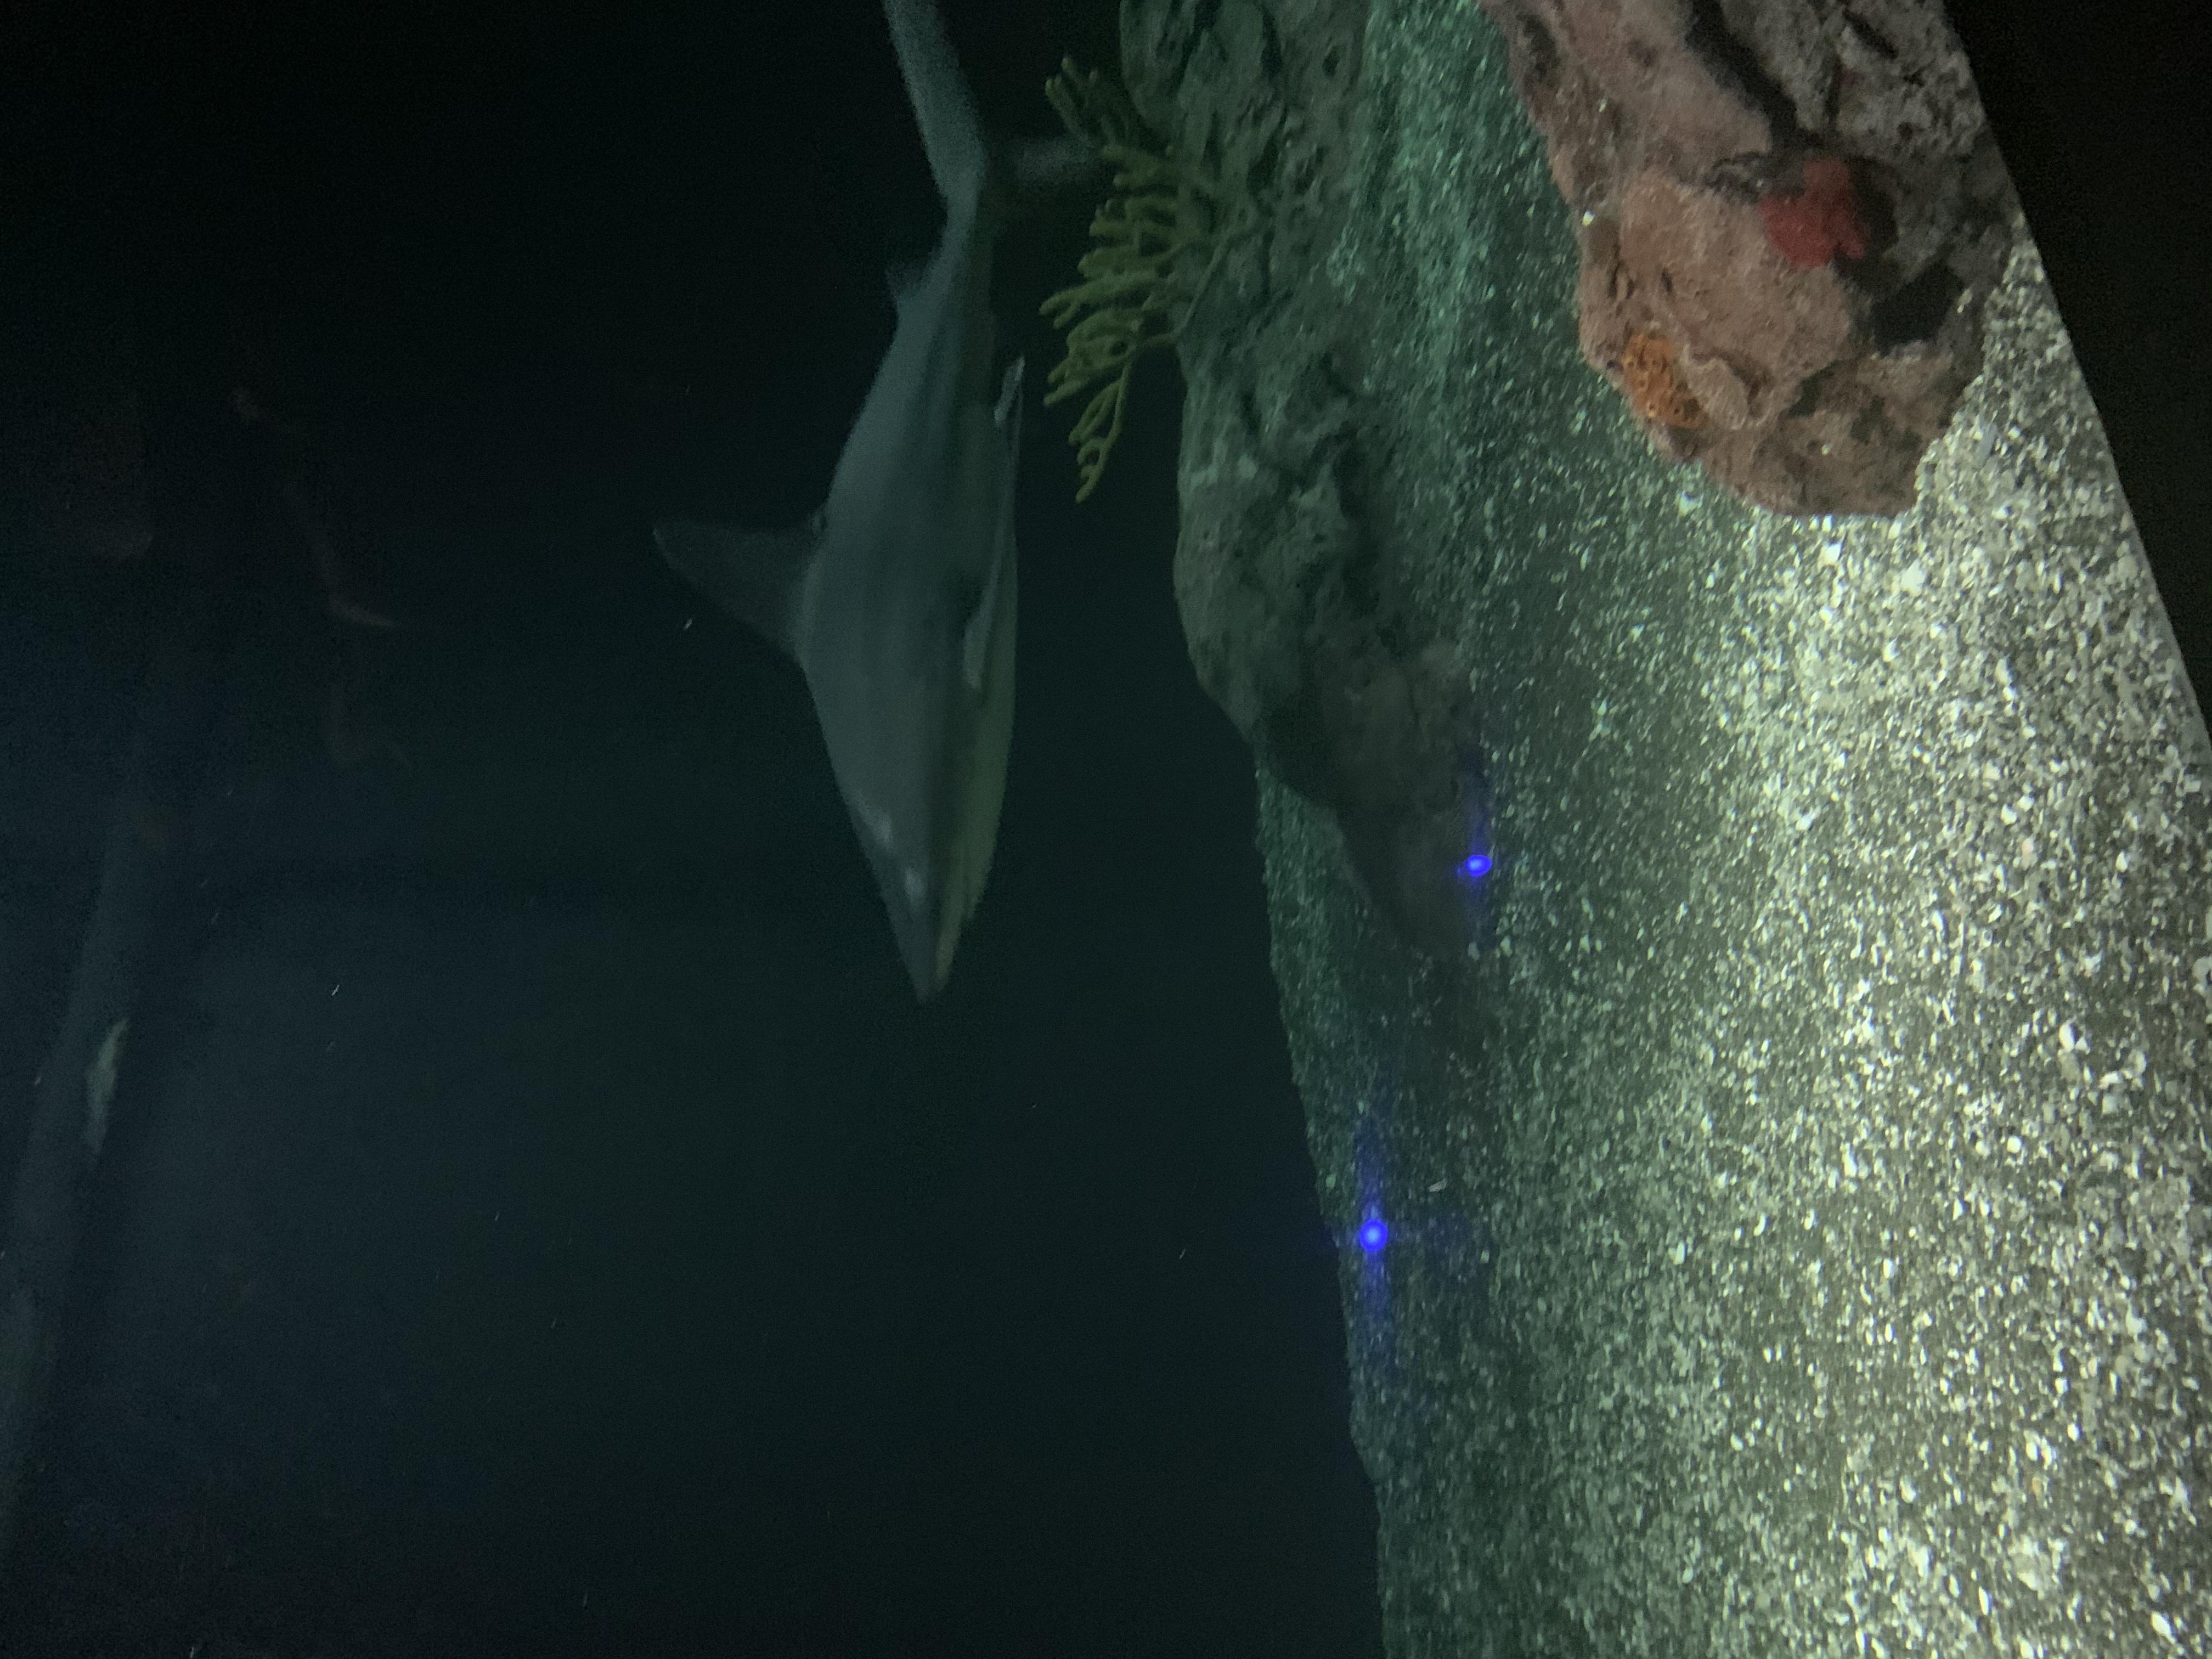shark: (643, 0, 1106, 1012)
